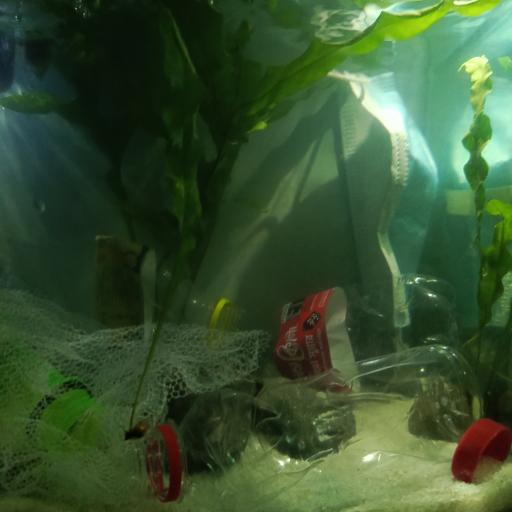bottle_cap: (450, 415, 512, 484)
mask: (335, 70, 441, 330)
net: (0, 293, 270, 507)
plastic_bottle: (132, 342, 486, 504), (0, 232, 240, 342), (241, 274, 452, 392), (0, 340, 100, 451)
